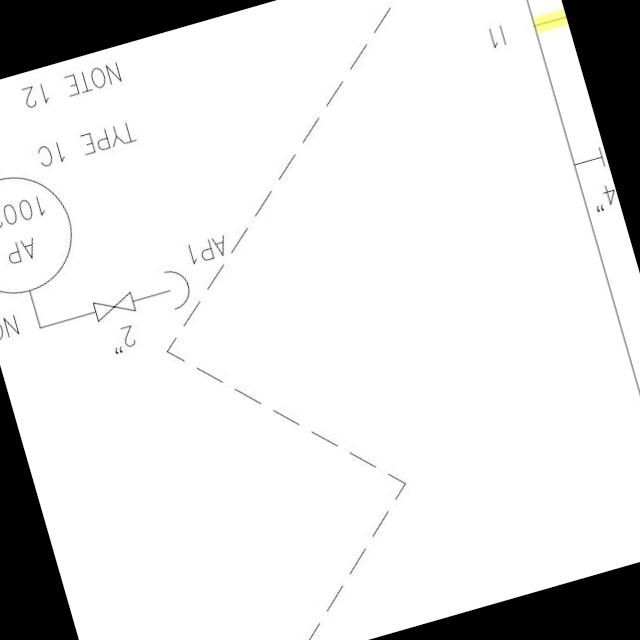GV: (88, 286, 142, 328)
